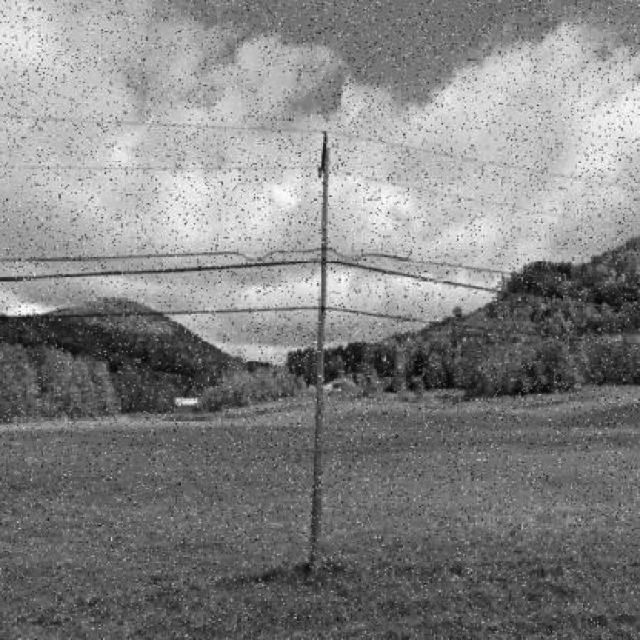pole: (308, 128, 328, 571)
wire: (0, 258, 640, 301), (0, 246, 540, 280), (1, 305, 541, 337)
